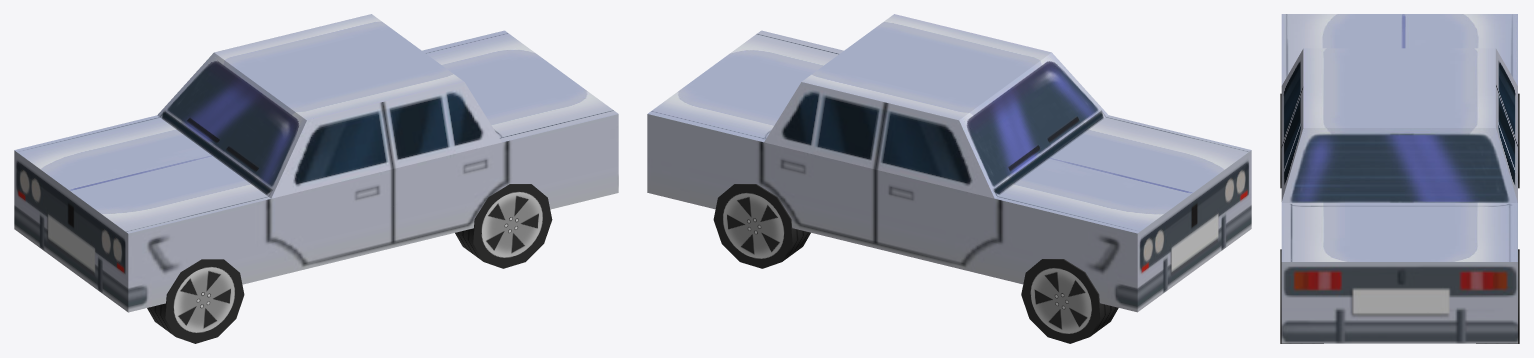
Rendered from avto_4.FBX.
The picture shows the model from 3 angles, left to right: view 1: azimuth 30°, elevation 25°; view 2: azimuth 150°, elevation 25°; view 3: azimuth 270°, elevation 25°; orthographic projection. The views are drawn at different scales.
Visible parts, largest first — view 1: car004, Cylinder027, Cylinder029; view 2: car004, Cylinder026, Cylinder028; view 3: car004, Cylinder026, Cylinder029, Cylinder027, Cylinder028.
Boxes of the visible parts, bbox=[...] form: car004: bbox=[14, 14, 618, 312]; Cylinder027: bbox=[147, 259, 244, 343]; Cylinder029: bbox=[455, 184, 552, 268]; car004: bbox=[647, 14, 1251, 312]; Cylinder026: bbox=[713, 184, 810, 268]; Cylinder028: bbox=[1021, 259, 1118, 343]; car004: bbox=[1281, 14, 1517, 343]; Cylinder026: bbox=[1476, 249, 1519, 343]; Cylinder029: bbox=[1280, 249, 1323, 343]; Cylinder027: bbox=[1280, 93, 1281, 188]; Cylinder028: bbox=[1518, 93, 1519, 188].
Size of the model in its own units: 3.1 by 1.12 by 1.26.
Materials: 2 (2 with a texture image).
